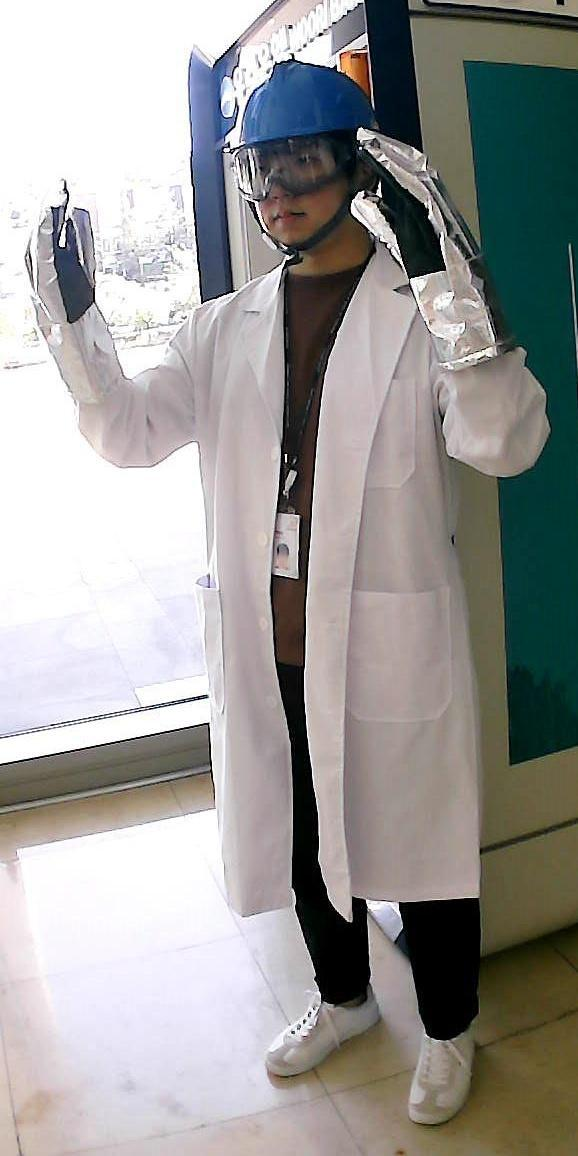lab_coat: (207, 291, 420, 892)
